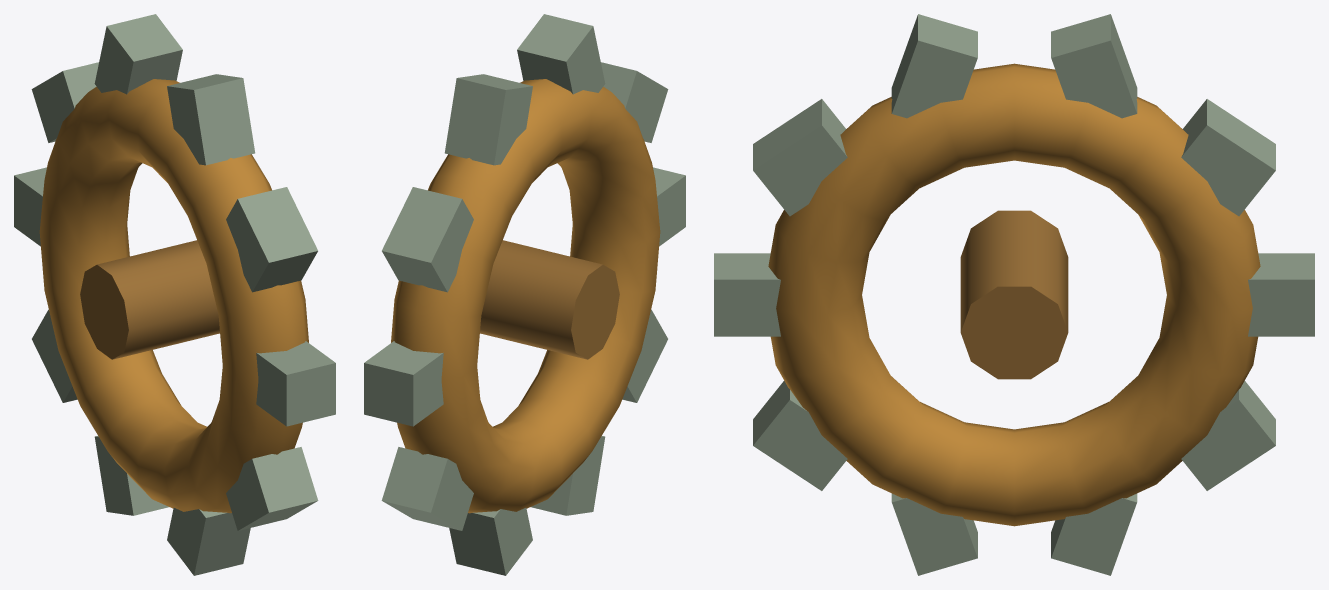
Rendered from gear_console.glb.
The picture shows the model from 3 angles, left to right: view 1: azimuth 30°, elevation 25°; view 2: azimuth 150°, elevation 25°; view 3: azimuth 270°, elevation 25°; orthographic projection. The views are drawn at different scales.
Visible parts, largest first — view 1: gear_ring, axle, tooth_1, tooth_2, tooth_0, tooth_9, tooth_3, tooth_8, tooth_4, tooth_7, tooth_5, tooth_6; view 2: gear_ring, axle, tooth_4, tooth_3, tooth_5, tooth_6, tooth_2, tooth_7, tooth_1, tooth_8, tooth_0, tooth_9; view 3: gear_ring, axle, tooth_1, tooth_4, tooth_2, tooth_3, tooth_0, tooth_5, tooth_6, tooth_9, tooth_7, tooth_8.
Part boxes in pixels (bbox=[...]): gear_ring: bbox=[39, 79, 308, 513]; axle: bbox=[80, 240, 219, 359]; tooth_1: bbox=[226, 187, 317, 292]; tooth_2: bbox=[167, 74, 255, 165]; tooth_0: bbox=[256, 341, 335, 426]; tooth_9: bbox=[226, 447, 318, 530]; tooth_3: bbox=[94, 14, 182, 94]; tooth_8: bbox=[167, 508, 250, 575]; tooth_4: bbox=[31, 62, 98, 142]; tooth_7: bbox=[94, 436, 168, 515]; tooth_5: bbox=[14, 167, 46, 246]; tooth_6: bbox=[32, 309, 77, 402]; gear_ring: bbox=[391, 79, 660, 513]; axle: bbox=[480, 240, 619, 359]; tooth_4: bbox=[382, 187, 473, 292]; tooth_3: bbox=[444, 74, 532, 165]; tooth_5: bbox=[364, 341, 443, 426]; tooth_6: bbox=[381, 447, 473, 530]; tooth_2: bbox=[517, 14, 605, 94]; tooth_7: bbox=[449, 508, 532, 575]; tooth_1: bbox=[601, 62, 668, 142]; tooth_8: bbox=[531, 436, 605, 515]; tooth_0: bbox=[653, 167, 685, 246]; tooth_9: bbox=[622, 309, 667, 402]; gear_ring: bbox=[768, 63, 1260, 526]; axle: bbox=[960, 210, 1068, 379]; tooth_1: bbox=[753, 99, 847, 216]; tooth_4: bbox=[1181, 99, 1275, 216]; tooth_2: bbox=[891, 14, 977, 118]; tooth_3: bbox=[1051, 14, 1137, 118]; tooth_0: bbox=[714, 253, 780, 336]; tooth_5: bbox=[1248, 253, 1314, 336]; tooth_6: bbox=[1181, 381, 1275, 490]; tooth_9: bbox=[753, 381, 847, 490]; tooth_7: bbox=[1051, 493, 1137, 575]; tooth_8: bbox=[891, 493, 977, 575].
Size of what is drawn, in the model's own units: 0.8 by 2.64 by 2.68.
